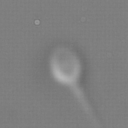normal: (72, 83, 100, 128)
